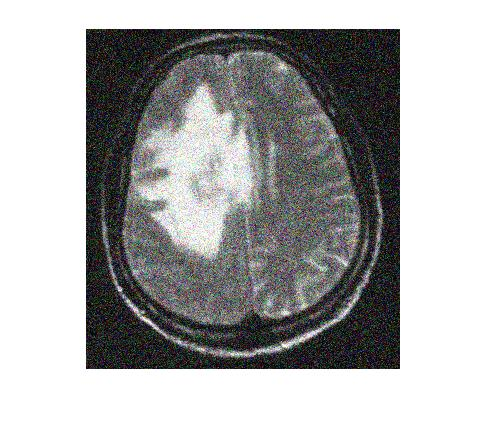Brain_Cancer: (178, 126, 278, 216)
